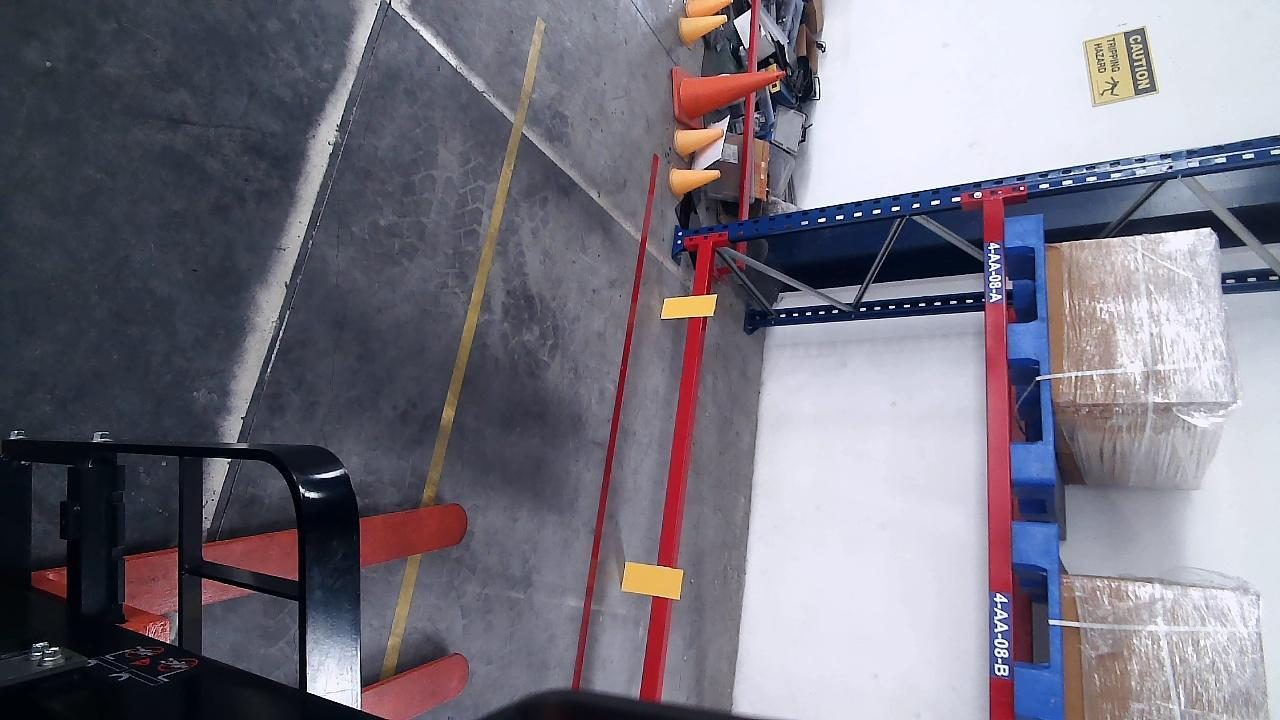h_rack: (639, 243, 713, 705), (983, 198, 1014, 720)
orange_strip: (618, 558, 683, 598), (660, 295, 713, 318)
red_line: (571, 154, 661, 689)
small_pallet: (1005, 217, 1047, 478), (1013, 521, 1061, 720)
yellow_line: (423, 14, 547, 509)
